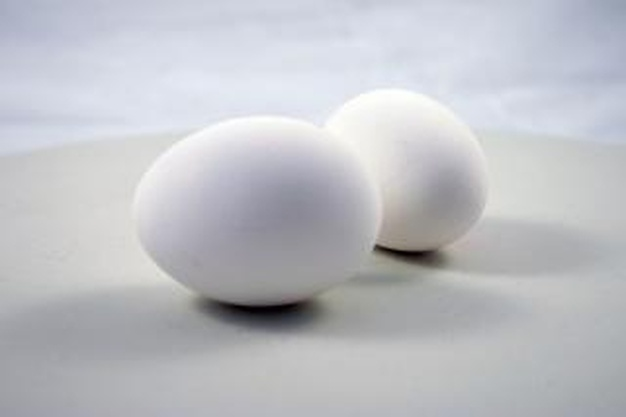Egg: (124, 105, 390, 317)
